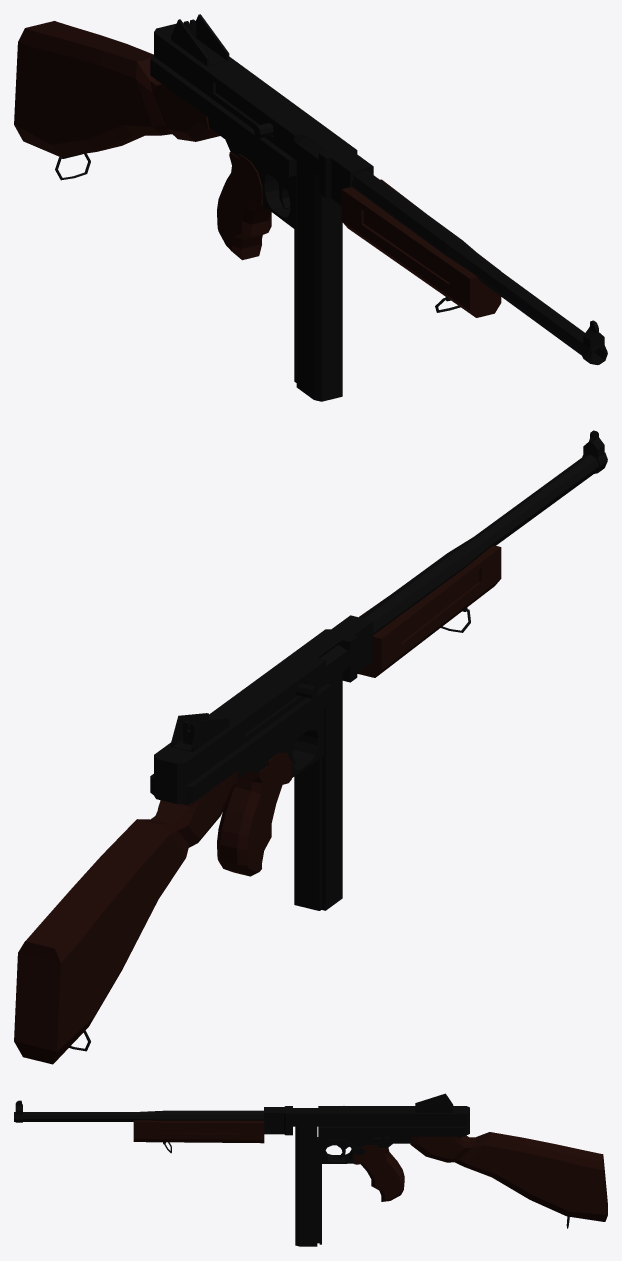
Rendered from Thompson_M1.fbx.
3 views of the same model, one above another, from view 1: azimuth 30°, elevation 25°; view 2: azimuth 150°, elevation 25°; view 3: azimuth 270°, elevation 25° (orthographic). The views are drawn at different scales.
Parts seen in each view (by area): view 1: Thompson_M1; view 2: Thompson_M1; view 3: Thompson_M1.
Boxes of the visible parts, left/top/right/bottom form: Thompson_M1: left=14, top=14, right=607, bottom=401; Thompson_M1: left=14, top=430, right=607, bottom=1064; Thompson_M1: left=14, top=1093, right=607, bottom=1246.
Size of the model in its own units: 4.64 by 23.27 by 85.55.
